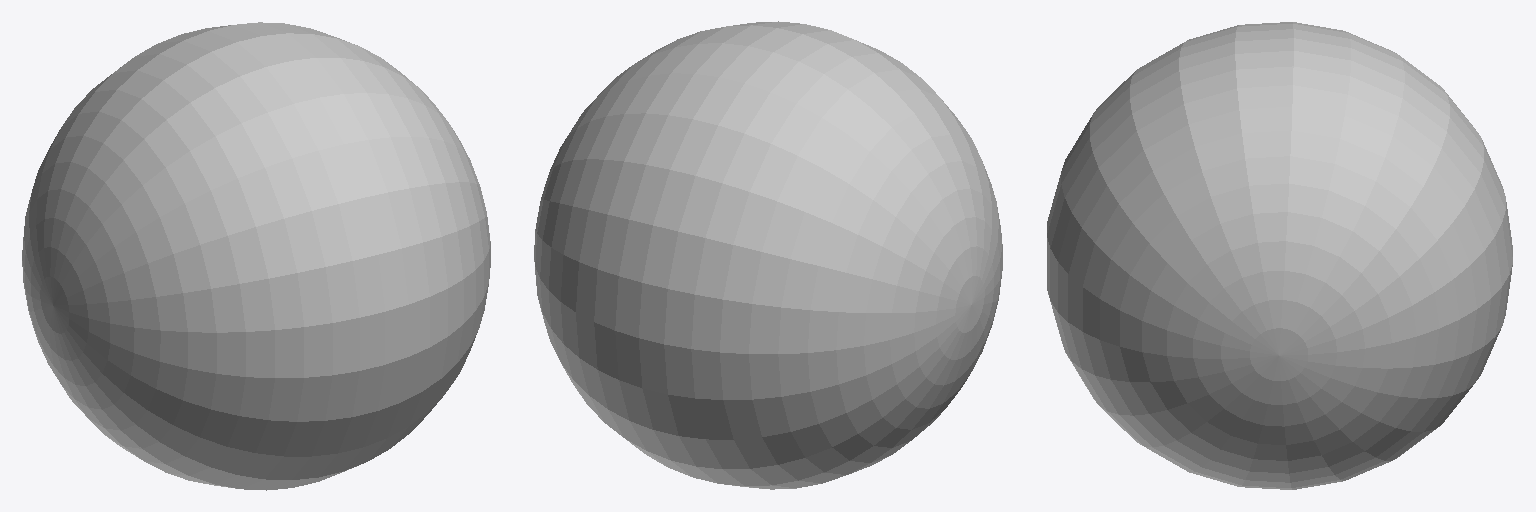
Rendered from CubeWITHAnim0007.obj.
3 views of the same model, side by side, from view 1: azimuth 30°, elevation 25°; view 2: azimuth 150°, elevation 25°; view 3: azimuth 270°, elevation 25° (orthographic).
Parts seen in each view (by area): view 1: NEWJumpBall_Sphere; view 2: NEWJumpBall_Sphere; view 3: NEWJumpBall_Sphere.
Boxes of the visible parts, box(x1,y1,x2,y2) form: NEWJumpBall_Sphere: box(22, 22, 490, 490); NEWJumpBall_Sphere: box(534, 21, 1002, 489); NEWJumpBall_Sphere: box(1047, 22, 1512, 489).
Size of the model in its own units: 2 by 1.99 by 1.99.